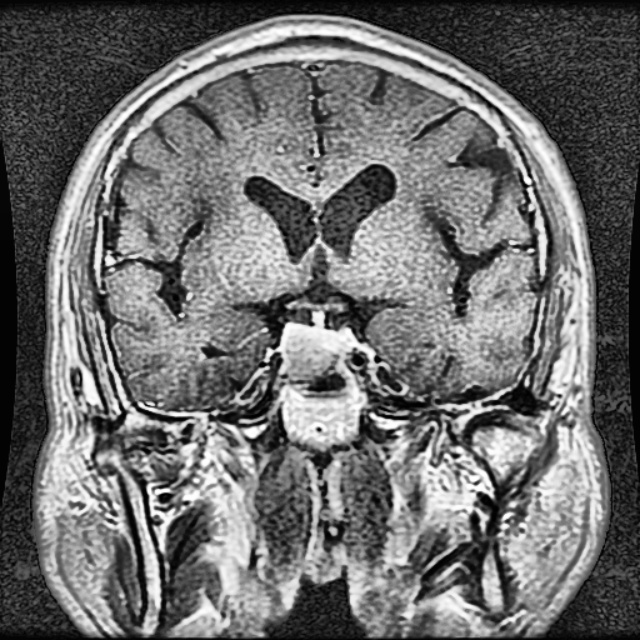Pituitary: (279, 312, 352, 380)
